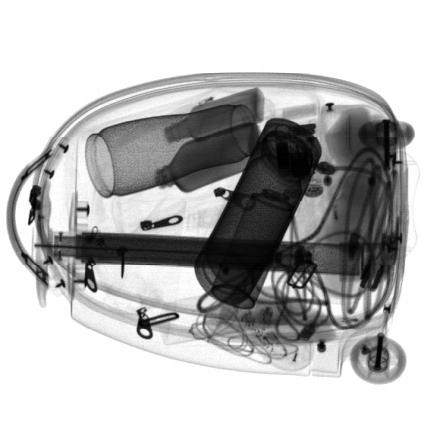Sprayer: (212, 170, 303, 308)
